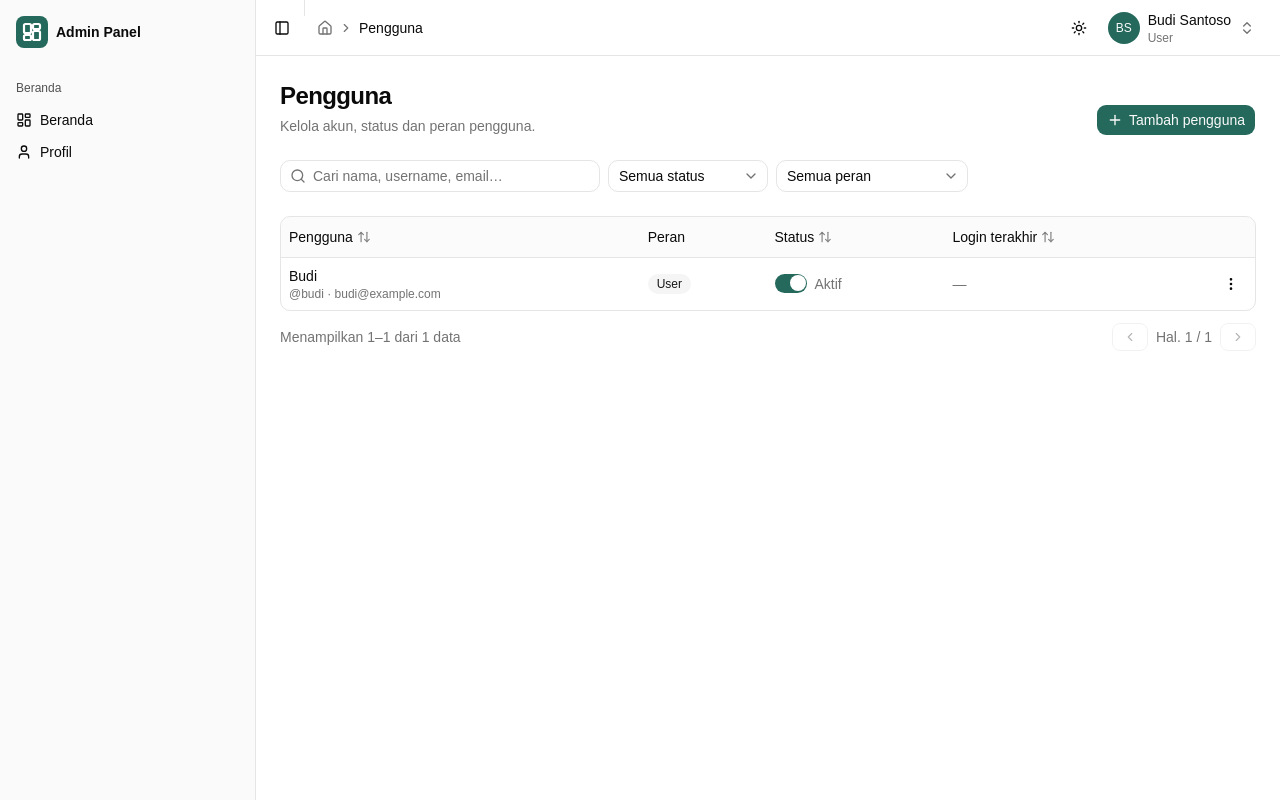
Test case: user administration dialogs › edits a user
Click the button named "Aksi untuk Budi" at (1231, 284), box 1215,268 -> 1247,300
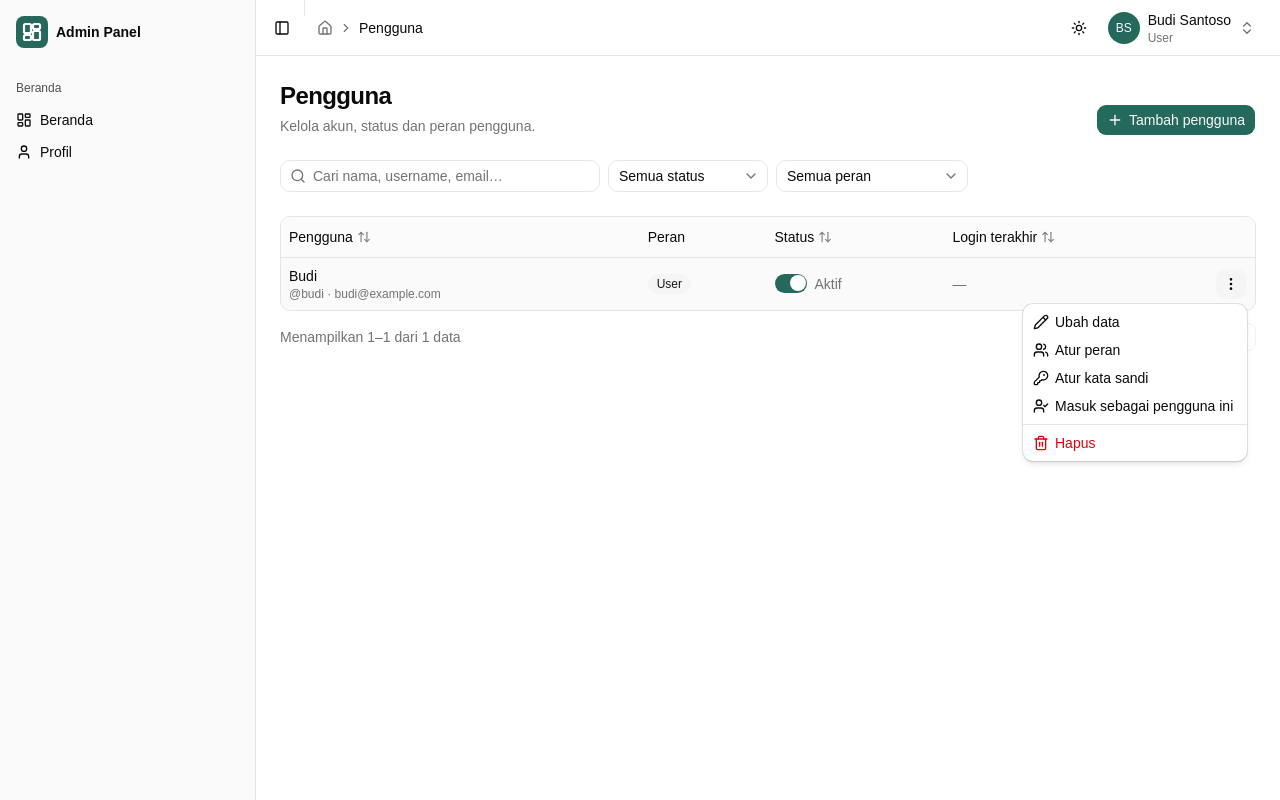
Click the menu item "Ubah data" at (1076, 322), box 1033,314 -> 1120,330
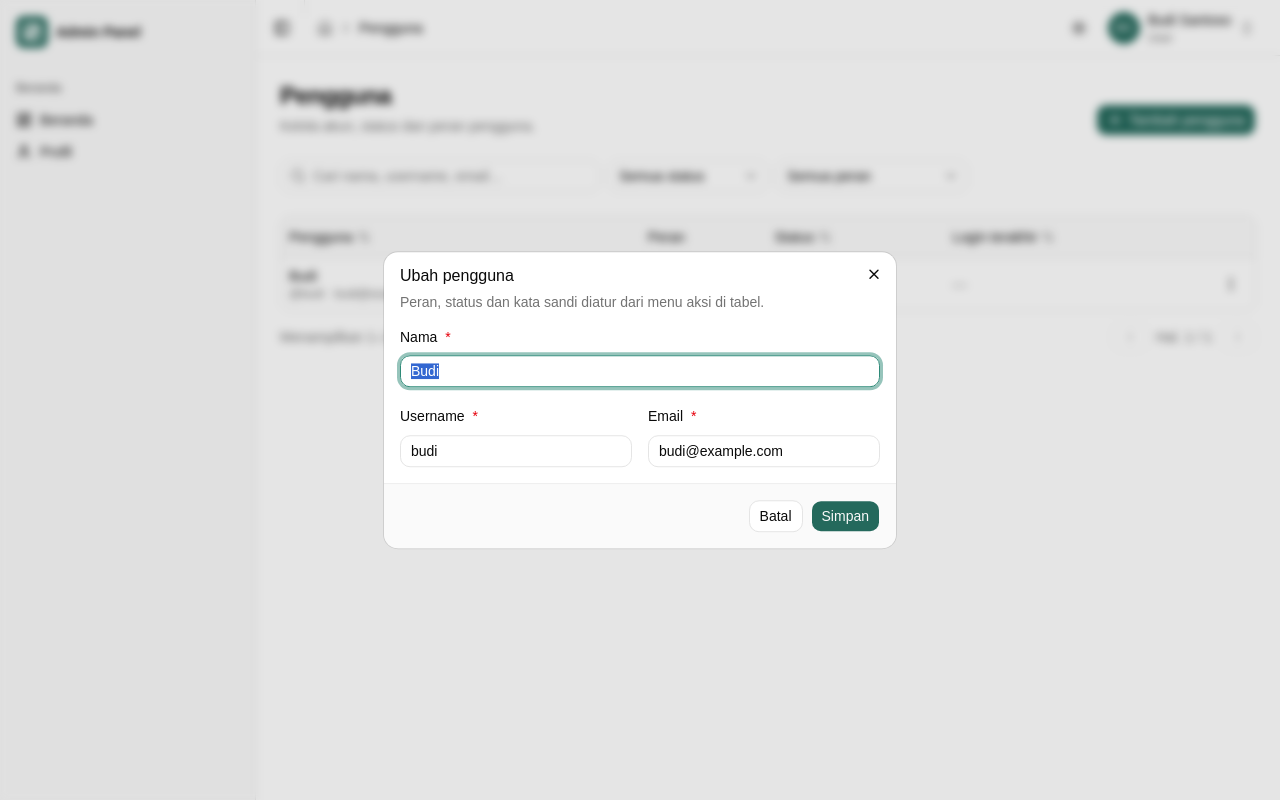
Expected: the field labelled "Nama *" holds "Budi"
Replace the text in the field labelled "Nama *" with "Budi Baru" at (640, 372), box 400,356 -> 880,388
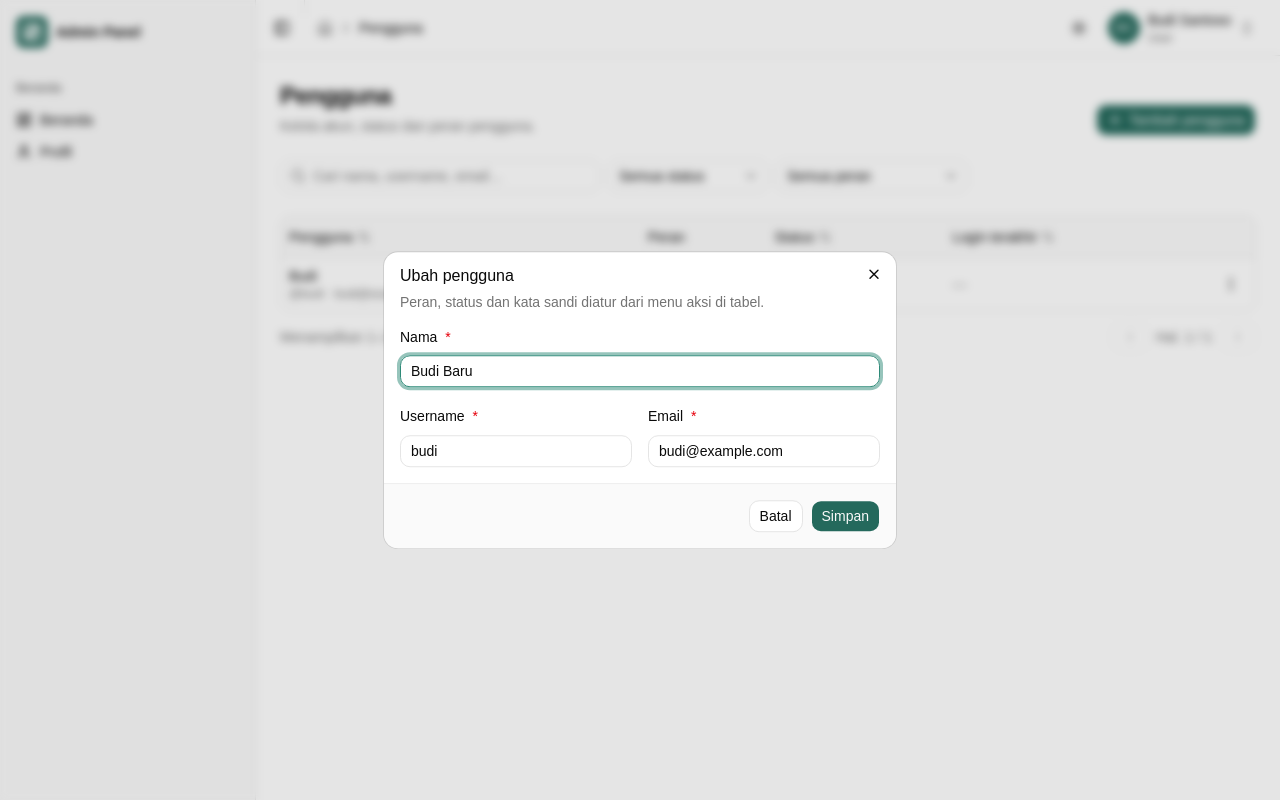
Click the button "Simpan" at (845, 516), box 810,500 -> 880,532
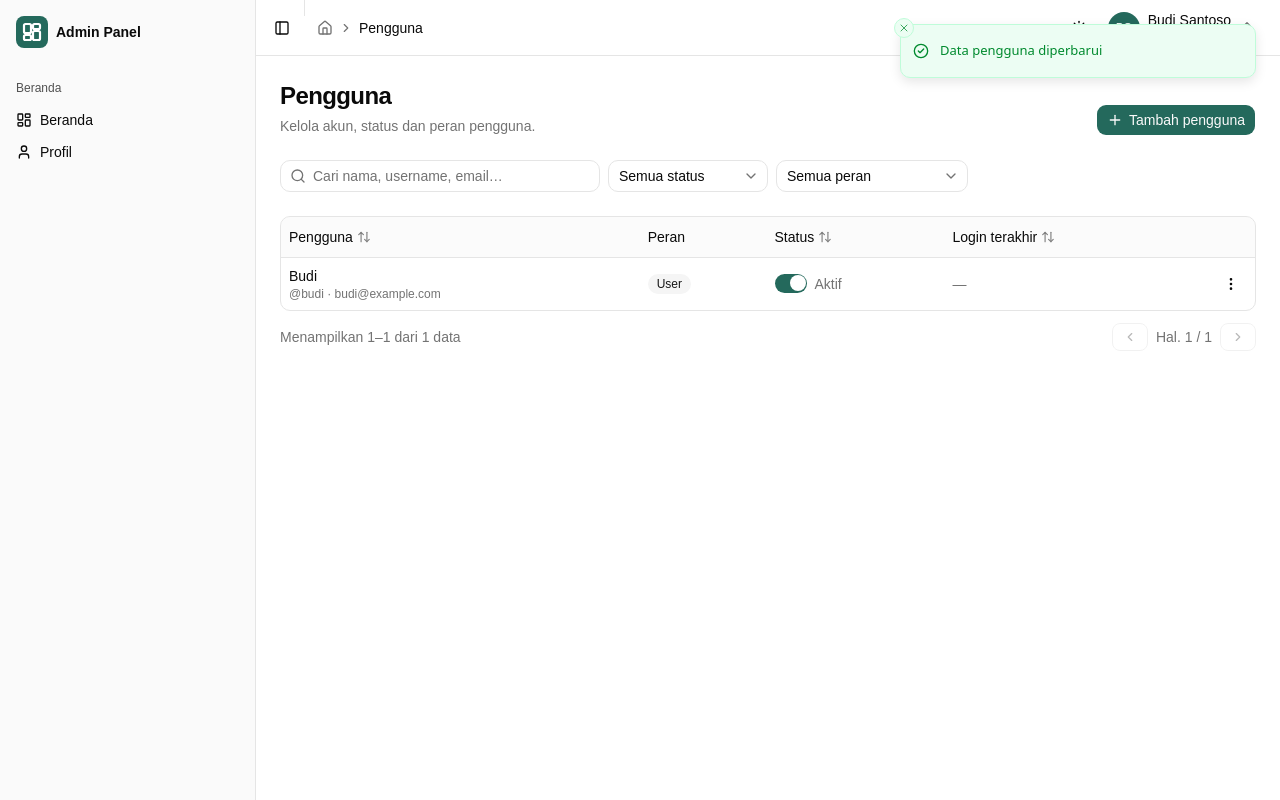
Expected: the dialog is gone
